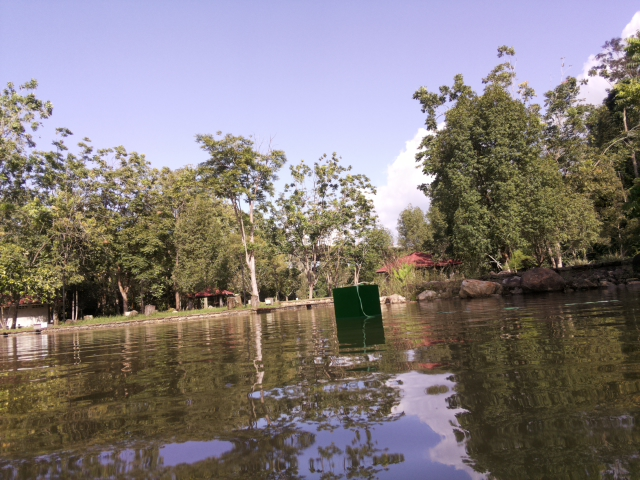obstacle: (332, 284, 382, 322)
